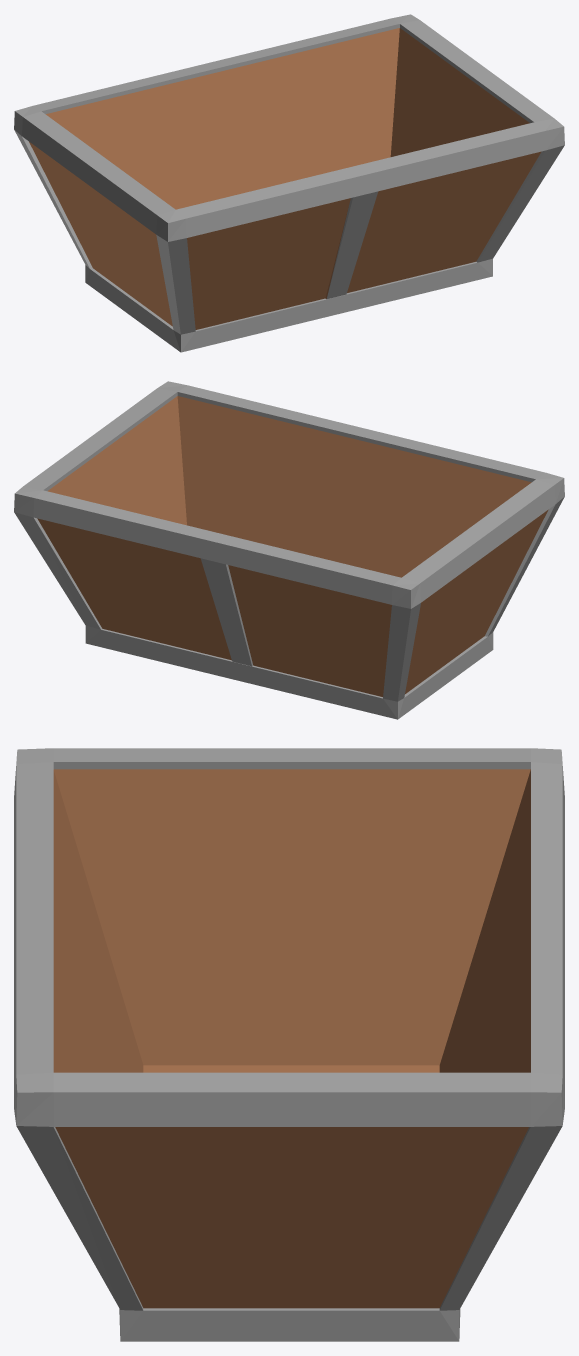
The model's file is chest_part2.obj.
3 views of the same model, one above another, from view 1: azimuth 30°, elevation 25°; view 2: azimuth 150°, elevation 25°; view 3: azimuth 270°, elevation 25° (orthographic). The views are drawn at different scales.
Size of the model in its own units: 7.53 by 2.93 by 5.07.
